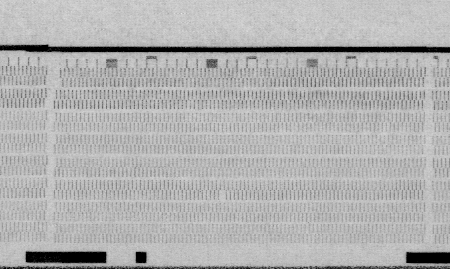Broken hole: (217, 188, 228, 199)
